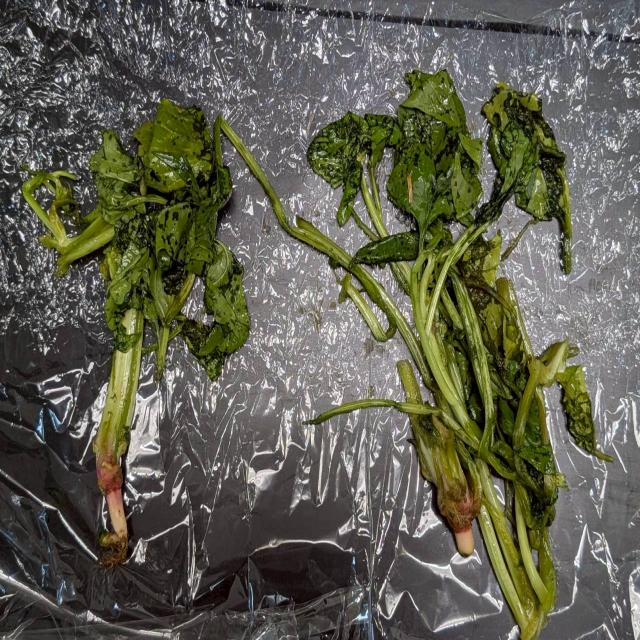rotten spinach: (15, 40, 611, 621), (306, 59, 604, 628), (268, 138, 581, 578), (19, 78, 256, 578)
